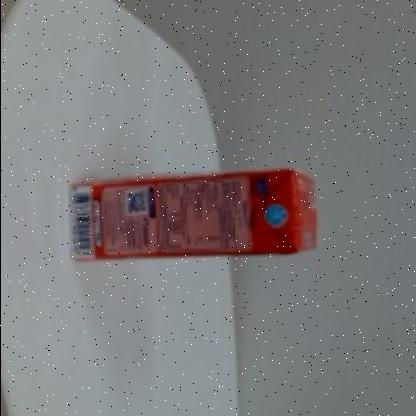Others: (60, 154, 324, 276)
